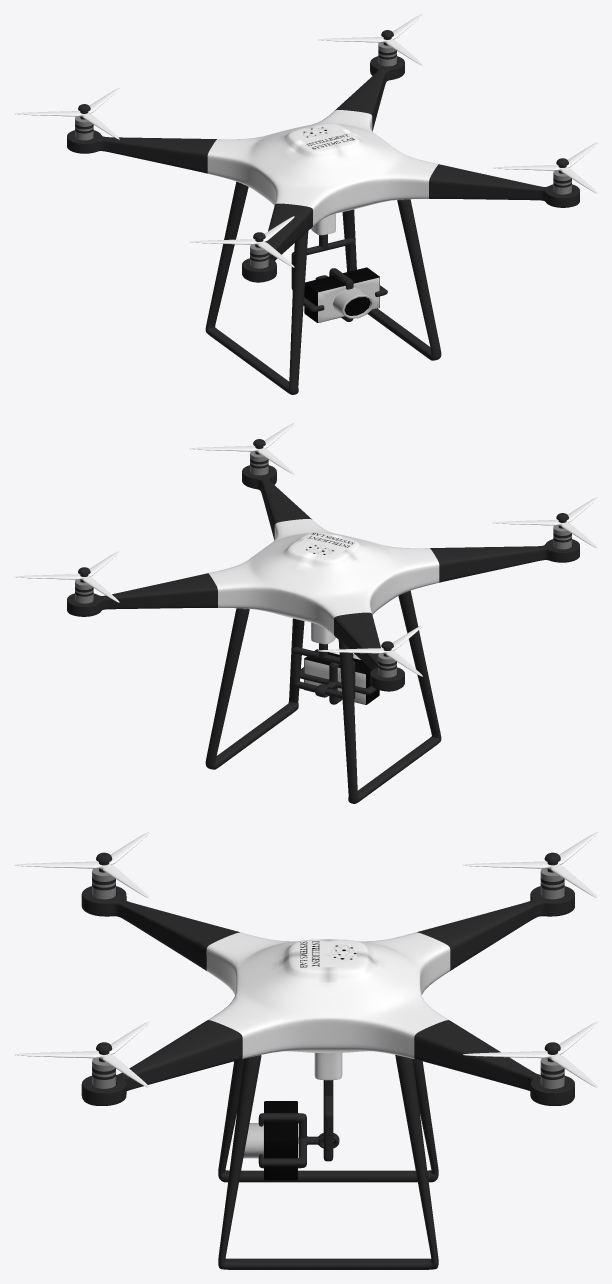
Rendered from quadcopter.fbx.
The picture shows the model from 3 angles, top to bottom: view 1: azimuth 30°, elevation 25°; view 2: azimuth 150°, elevation 25°; view 3: azimuth 270°, elevation 25°; orthographic projection. The views are drawn at different scales.
Visible parts, largest first — view 1: Quadcopter, Drone Camera, Front Right Propeller, Back Left Propeller, Front Left Propeller, Back Right Propeller, Attachment; view 2: Quadcopter, Drone Camera, Attachment, Back Left Propeller, Front Left Propeller, Back Right Propeller, Front Right Propeller; view 3: Quadcopter, Drone Camera, Attachment, Back Right Propeller, Front Left Propeller, Back Left Propeller, Front Right Propeller.
Part boxes in pixels (box(x1,y1,x2,y2)): Quadcopter: box(67, 30, 579, 394); Drone Camera: box(304, 267, 379, 322); Front Right Propeller: box(189, 216, 294, 267); Back Left Propeller: box(317, 14, 422, 65); Front Left Propeller: box(493, 142, 597, 193); Back Right Propeller: box(14, 88, 119, 139); Attachment: box(303, 268, 387, 321); Quadcopter: box(67, 439, 579, 803); Drone Camera: box(304, 649, 379, 704); Attachment: box(299, 653, 377, 704); Back Left Propeller: box(14, 551, 119, 602); Front Left Propeller: box(189, 423, 294, 474); Back Right Propeller: box(317, 625, 422, 676); Front Right Propeller: box(492, 497, 597, 548); Quadcopter: box(81, 852, 574, 1269); Drone Camera: box(243, 1101, 297, 1180); Attachment: box(258, 1113, 339, 1168); Back Right Propeller: box(463, 832, 597, 897); Front Left Propeller: box(14, 1021, 149, 1087); Back Left Propeller: box(463, 1021, 597, 1087); Front Right Propeller: box(14, 832, 149, 897).
Size of the model in its own units: 0.4766 by 0.2397 by 0.4603.
Materials: 8 (1 with a texture image).
